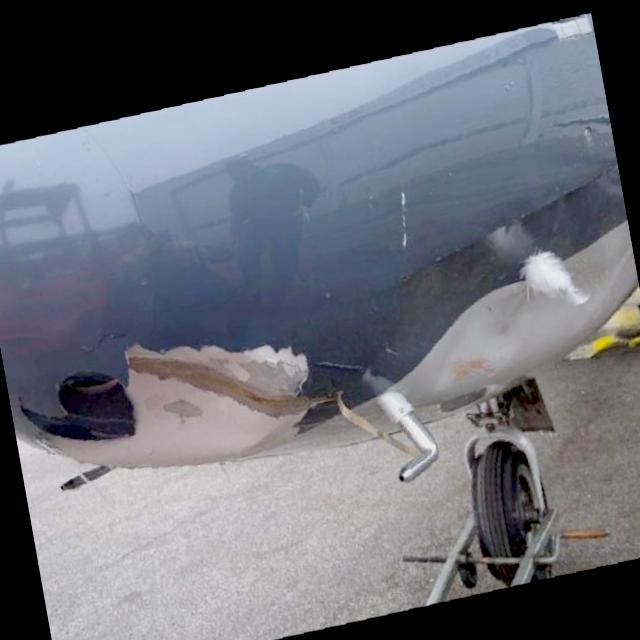crack: (68, 321, 140, 364)
dent: (152, 375, 280, 465), (481, 286, 536, 364), (426, 330, 476, 389)
